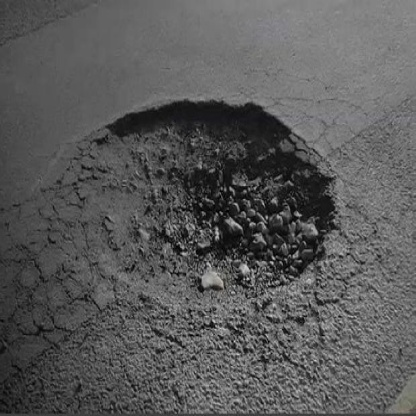pothole: (63, 88, 345, 324)
